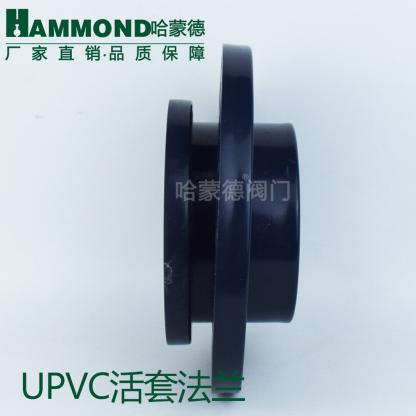FOD: (156, 36, 303, 406)
